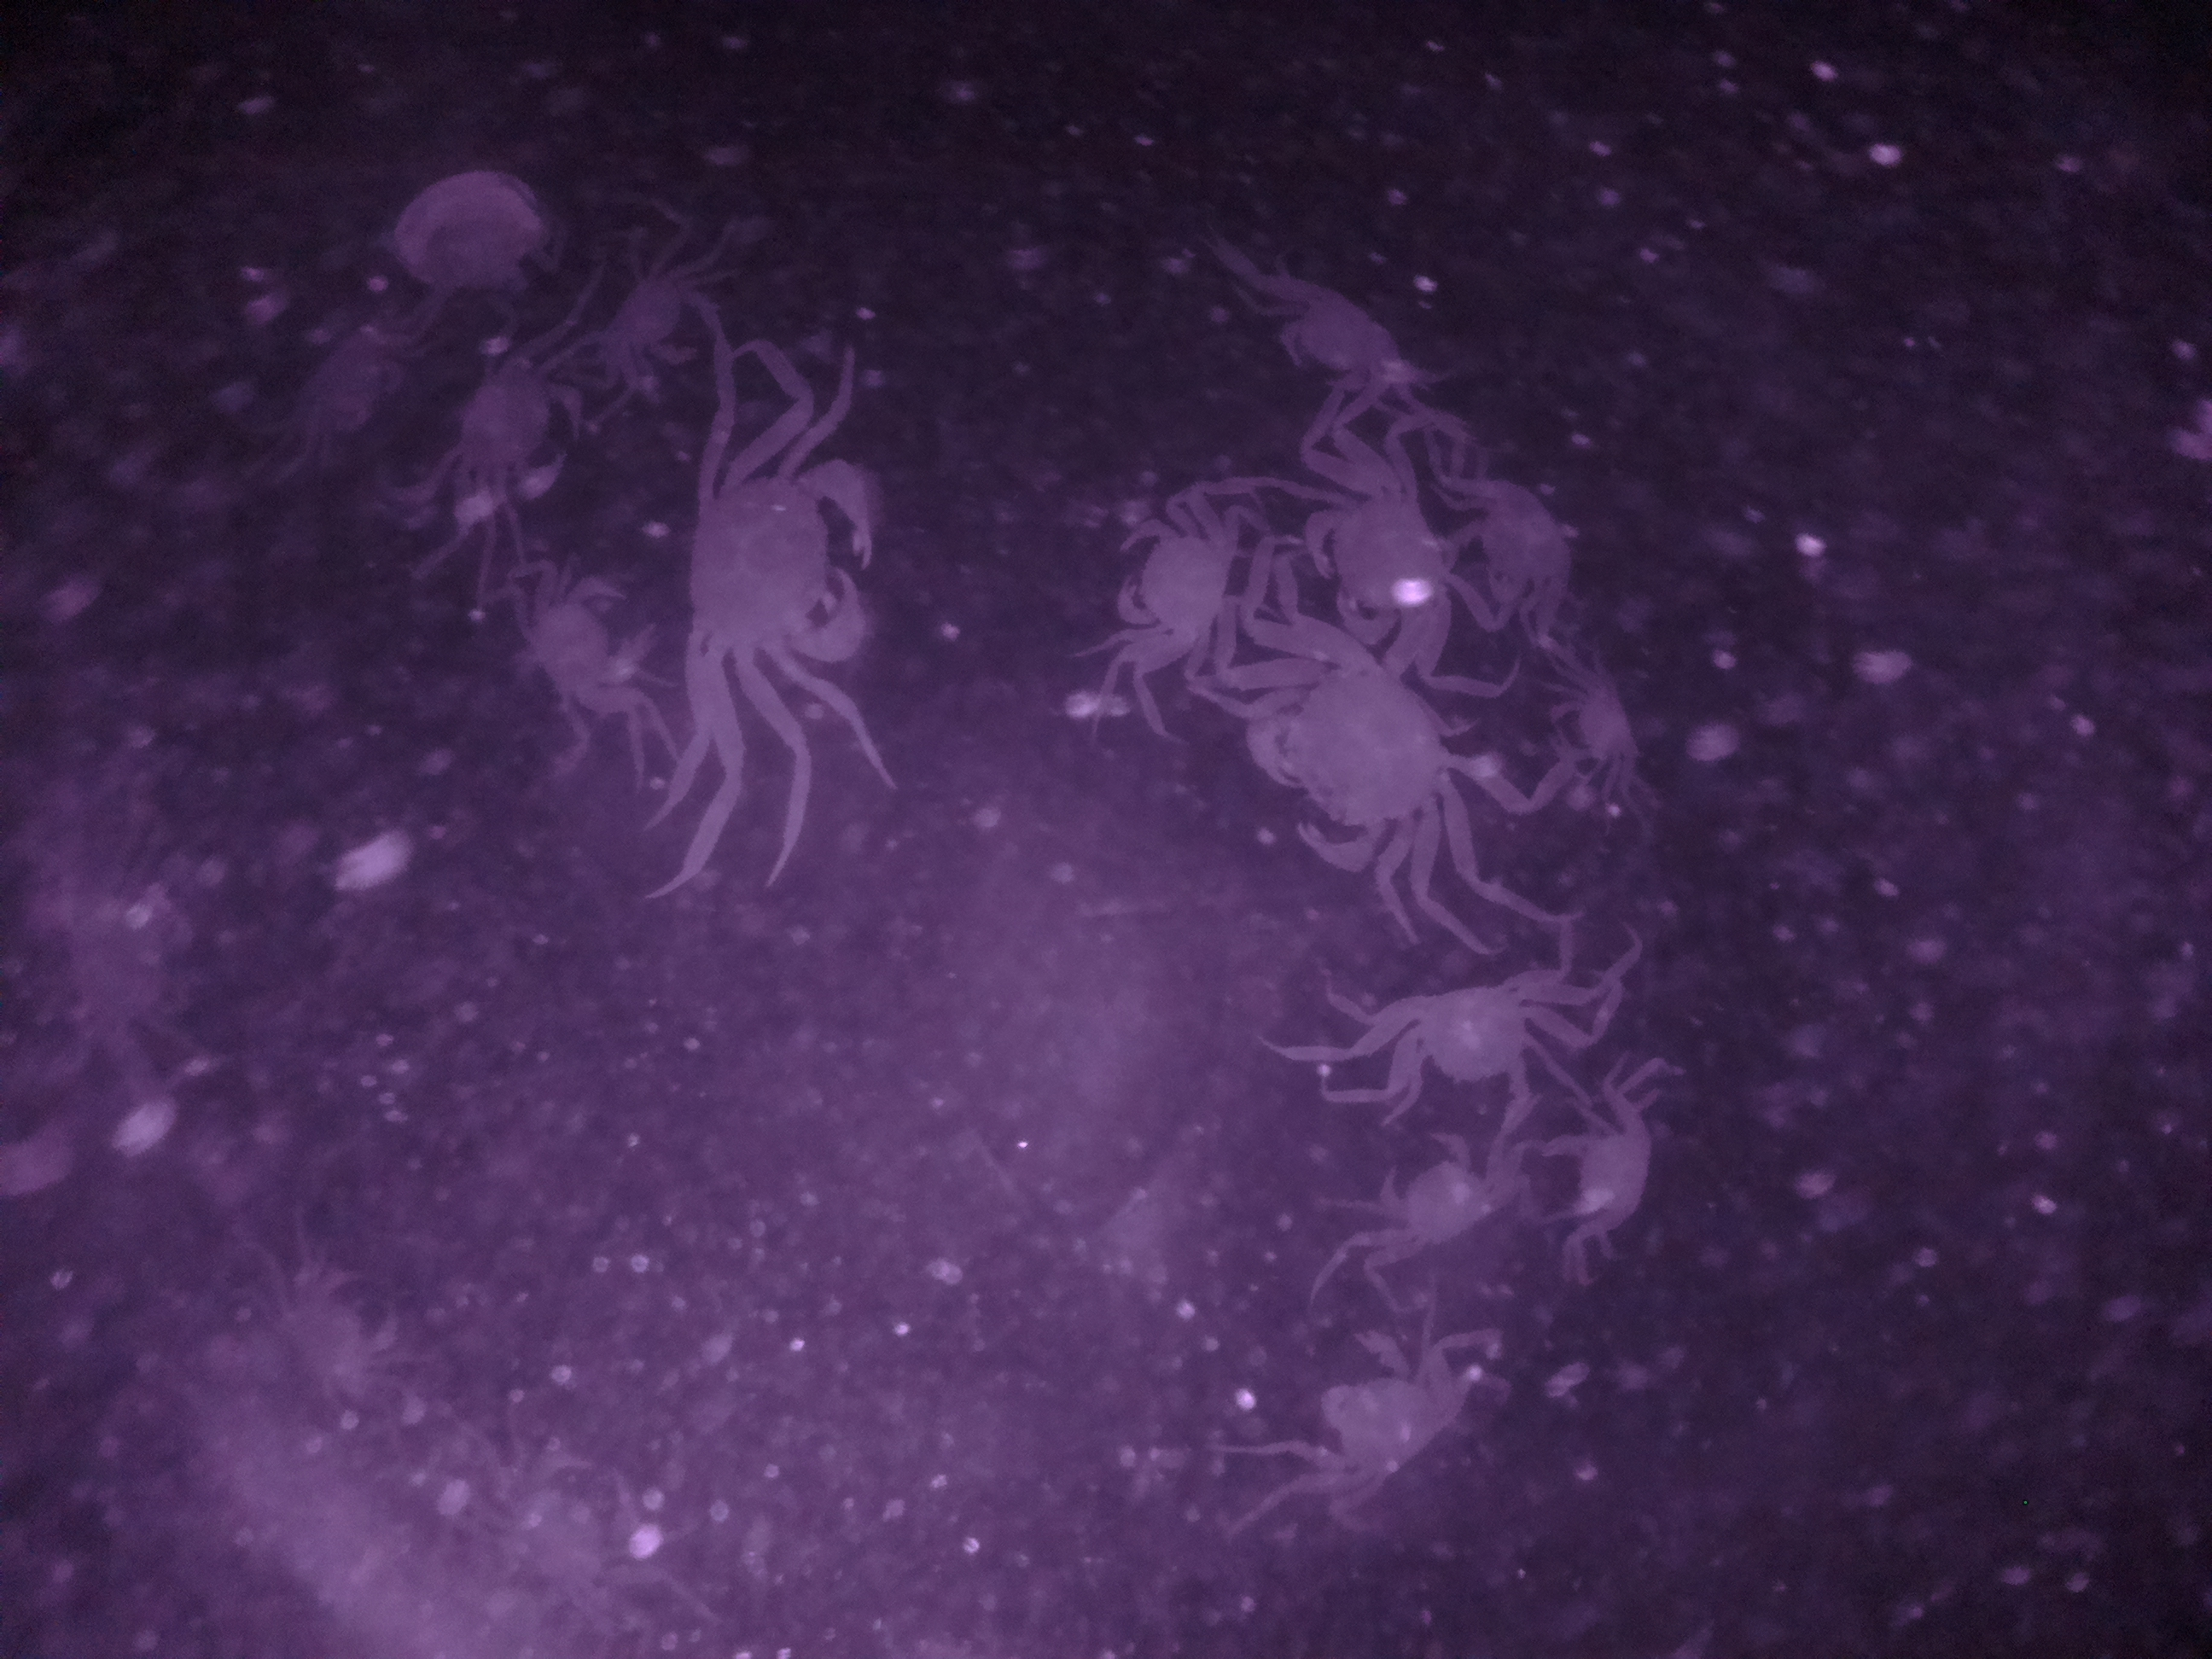Crab: (1224, 620, 1487, 873), (672, 427, 895, 697), (1341, 962, 1571, 1117), (1104, 497, 1254, 664), (1371, 1126, 1521, 1284), (1538, 1096, 1665, 1258), (1527, 660, 1658, 814)
